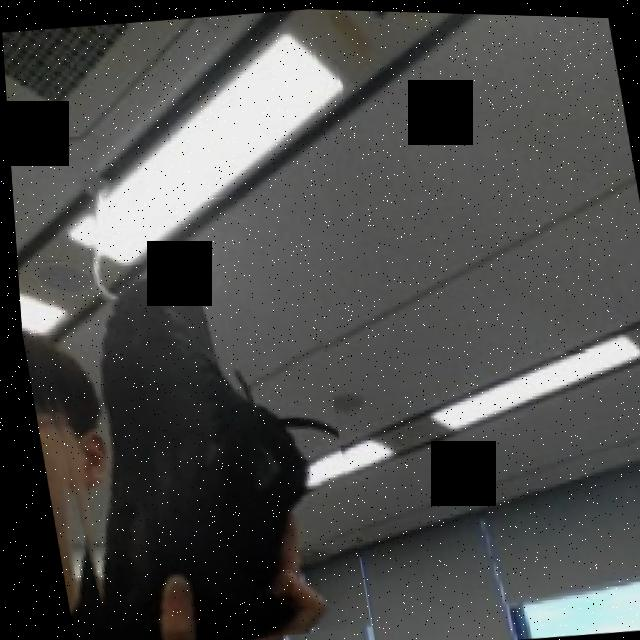shoe: (14, 243, 364, 640)
